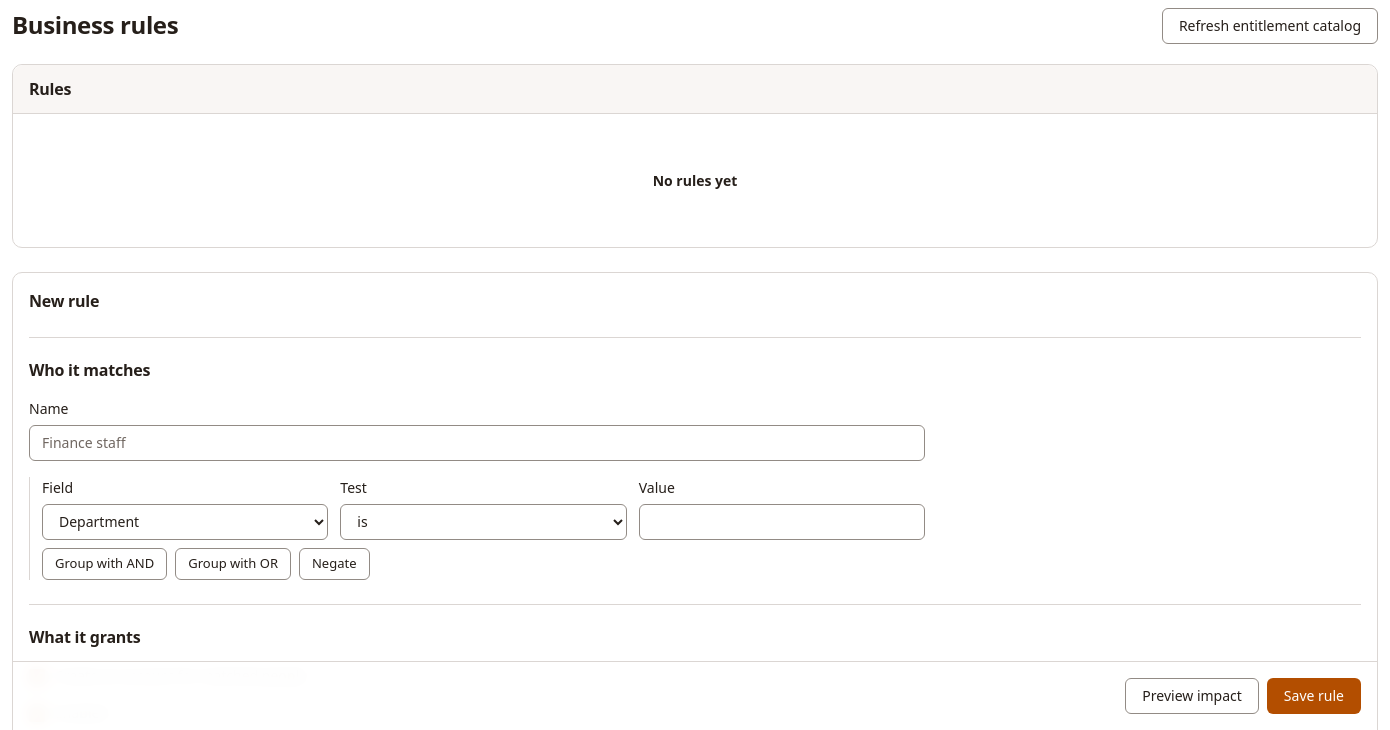
BusinessRulesPage › says nothing alarming when an edit revokes nothing
Click the button "Preview impact": (1192, 696) 1125,678 -> 1259,714
(page scrolled)
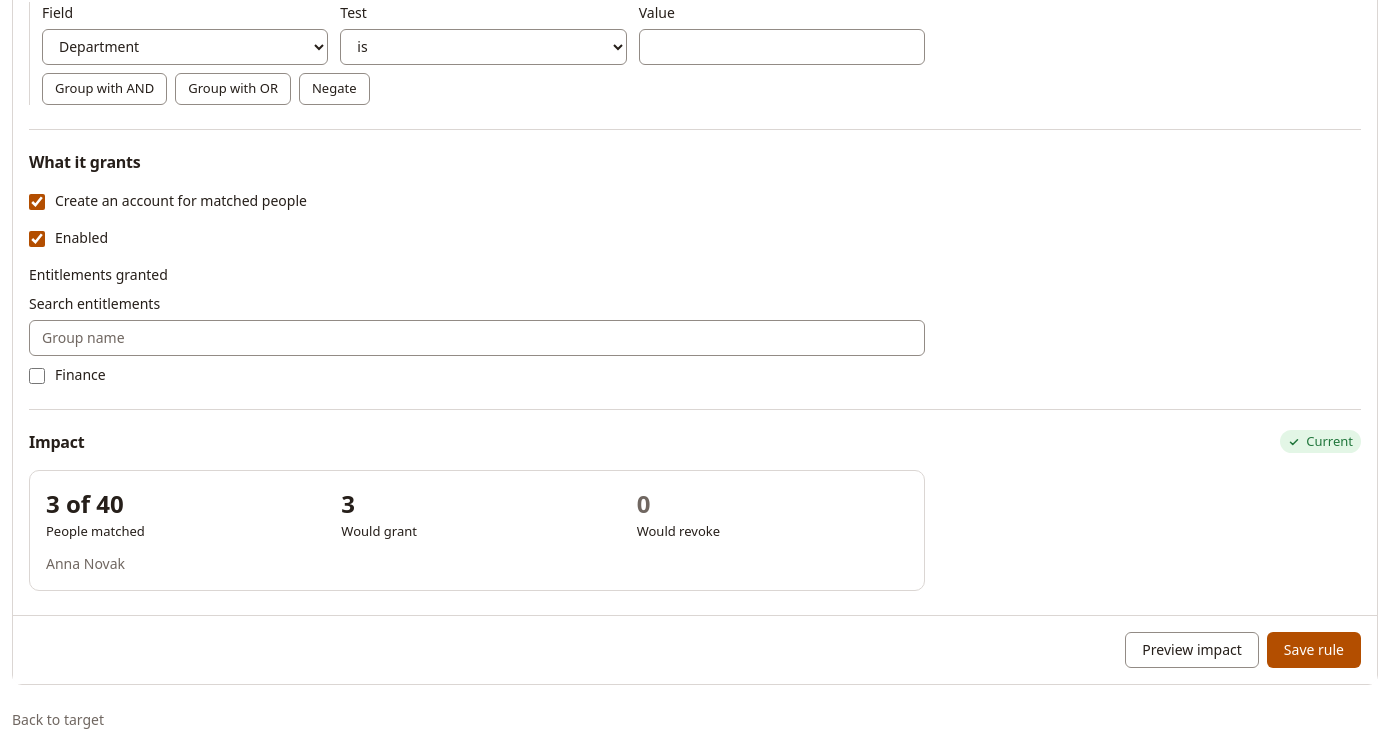
Check: the text "People matched" is shown, box 46,522 -> 145,540
